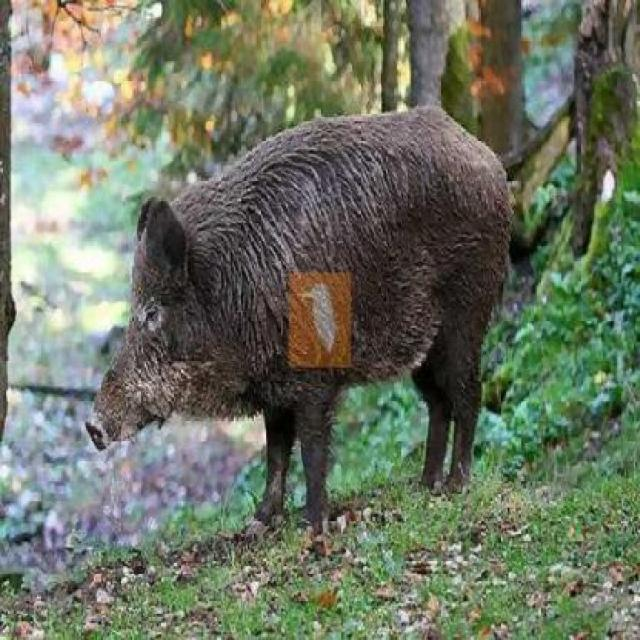pig: (77, 89, 521, 507)
